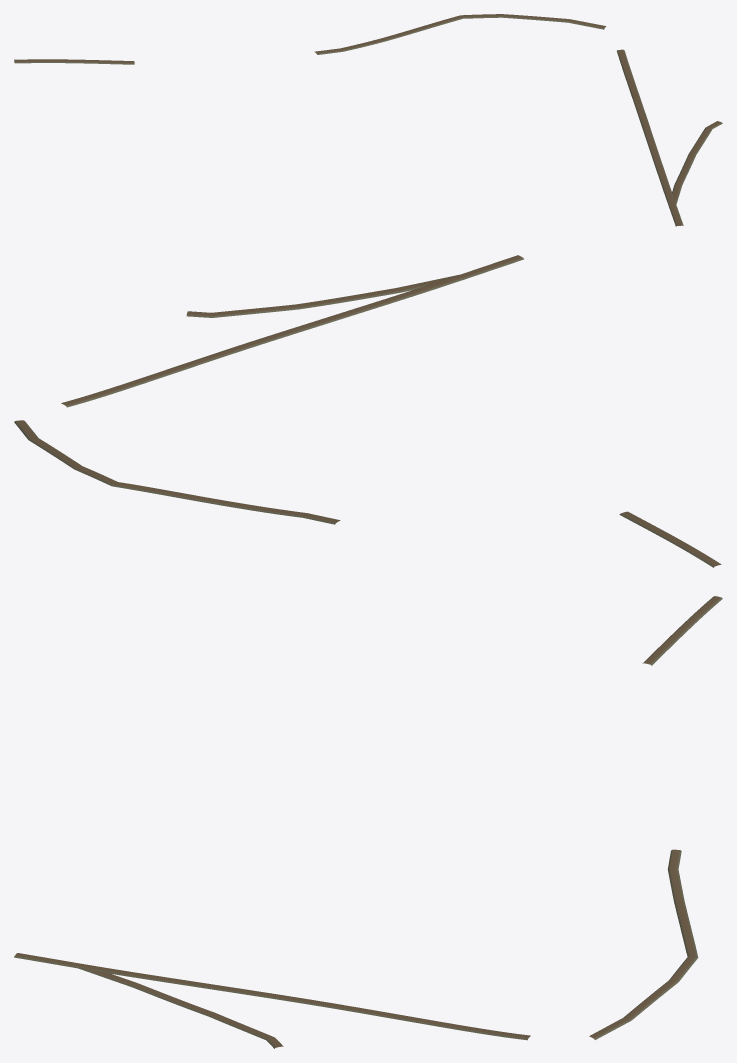
3 views of the same model, one above another, from view 1: azimuth 30°, elevation 25°; view 2: azimuth 150°, elevation 25°; view 3: azimuth 270°, elevation 25° (orthographic). The views are drawn at different scales.
Visible parts, largest first — view 1: roads; view 2: roads; view 3: roads.
Part boxes in pixels (box(x1,y1,x2,y2)): roads: box(14, 14, 722, 226); roads: box(14, 255, 721, 567); roads: box(14, 596, 722, 1048).
Size of the model in its own units: 408 by 52.93 by 342.
